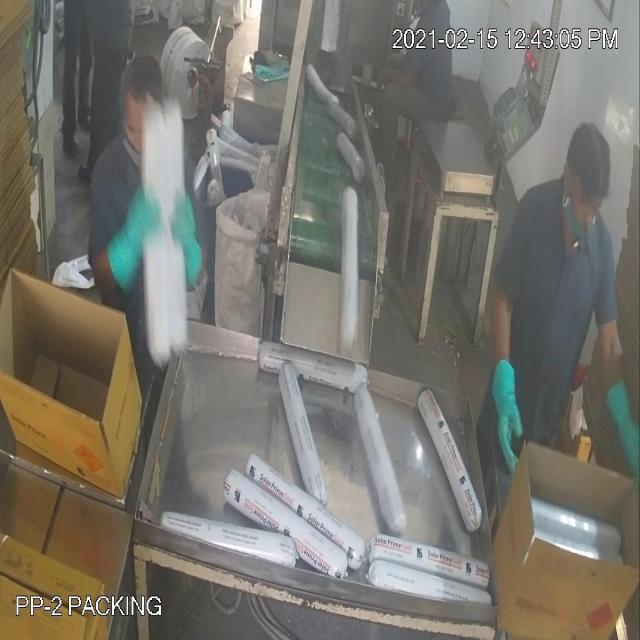Gloves: (38, 57, 620, 424)
